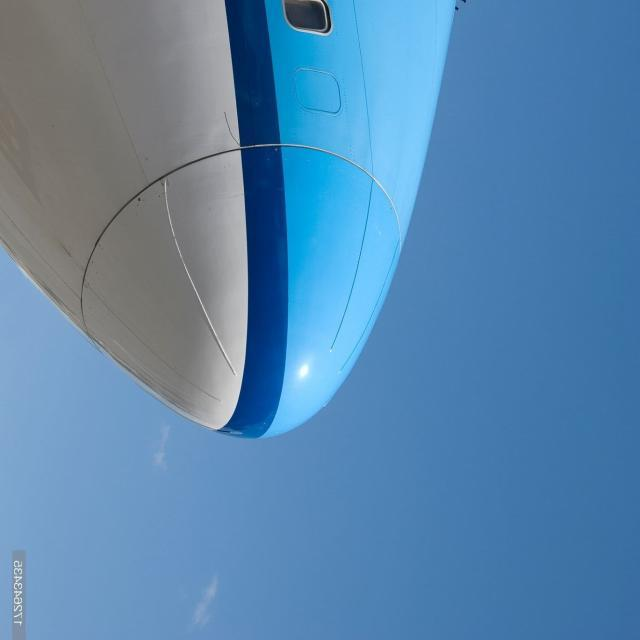crack: (220, 106, 250, 150)
